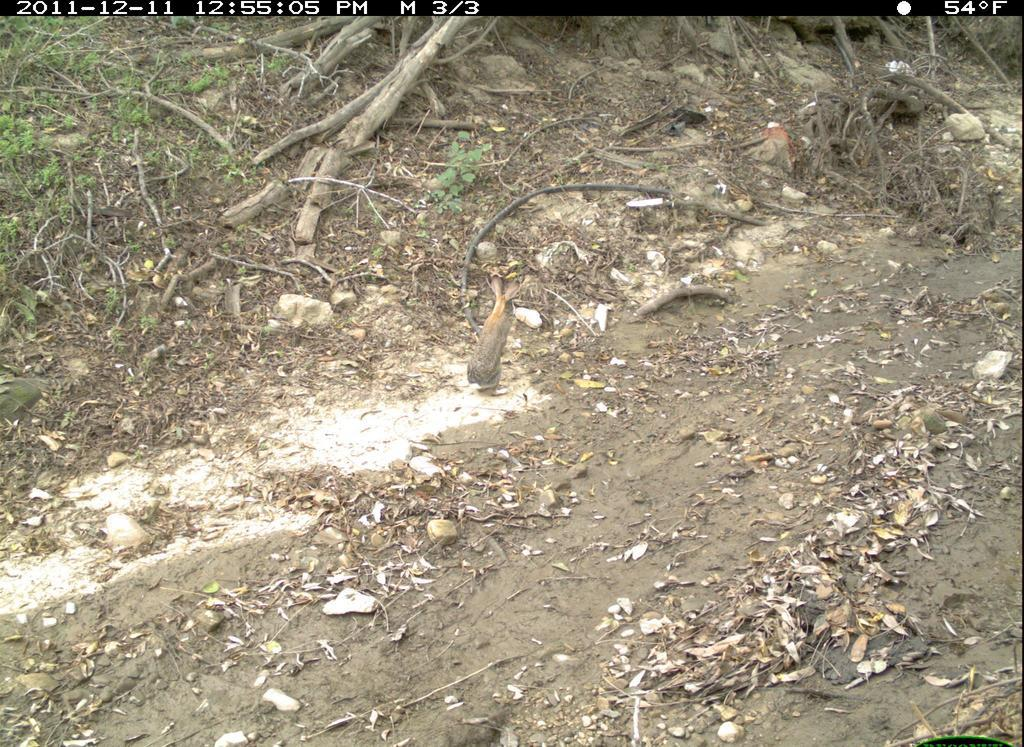rabbit: (457, 263, 534, 399)
